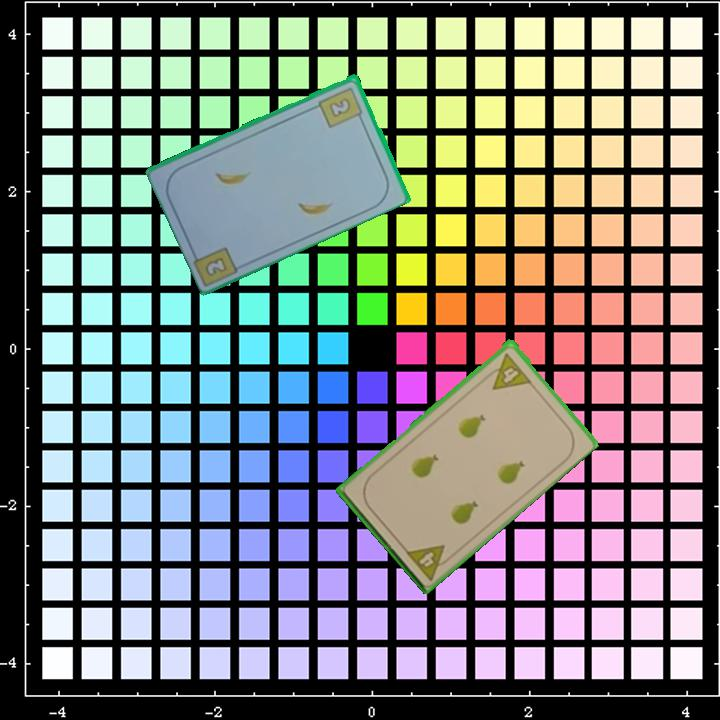2b: (315, 83, 366, 130), (201, 253, 230, 279)
4p: (481, 348, 533, 393), (402, 541, 456, 583)
